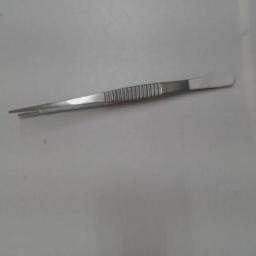DeBakey Dissector: (4, 60, 246, 128)
